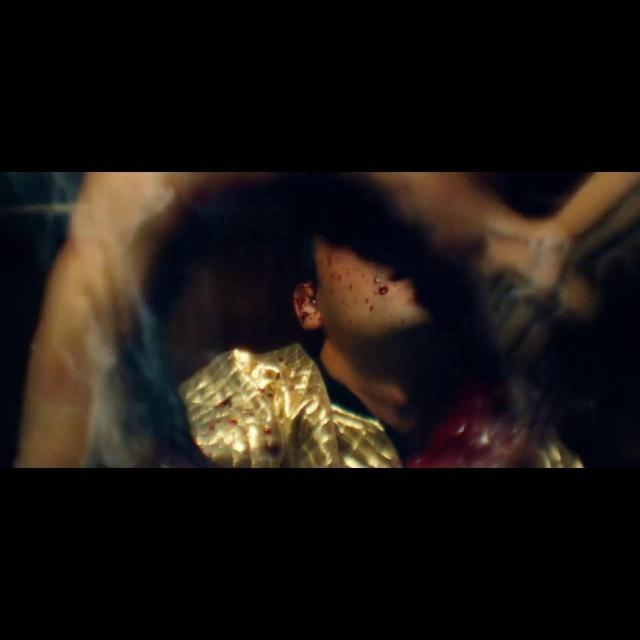blood: (294, 240, 429, 335), (410, 395, 536, 468), (237, 400, 273, 451), (533, 438, 582, 467), (215, 396, 232, 408), (258, 382, 270, 395), (277, 376, 286, 392), (228, 418, 238, 425), (274, 368, 284, 375), (256, 388, 265, 394), (270, 375, 278, 381), (208, 424, 215, 430), (216, 418, 221, 423), (278, 358, 282, 362), (273, 388, 276, 392), (268, 378, 271, 381)
